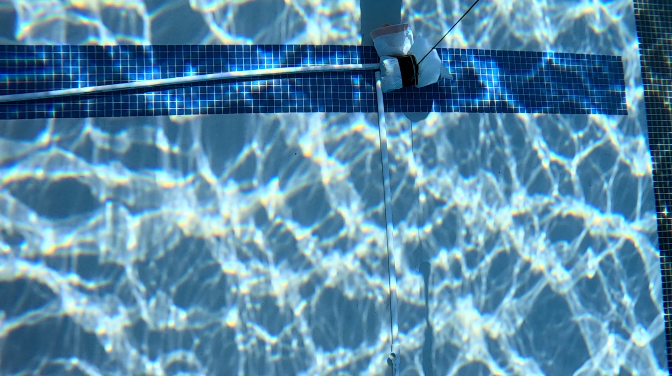sandbag: (387, 45, 447, 91)
